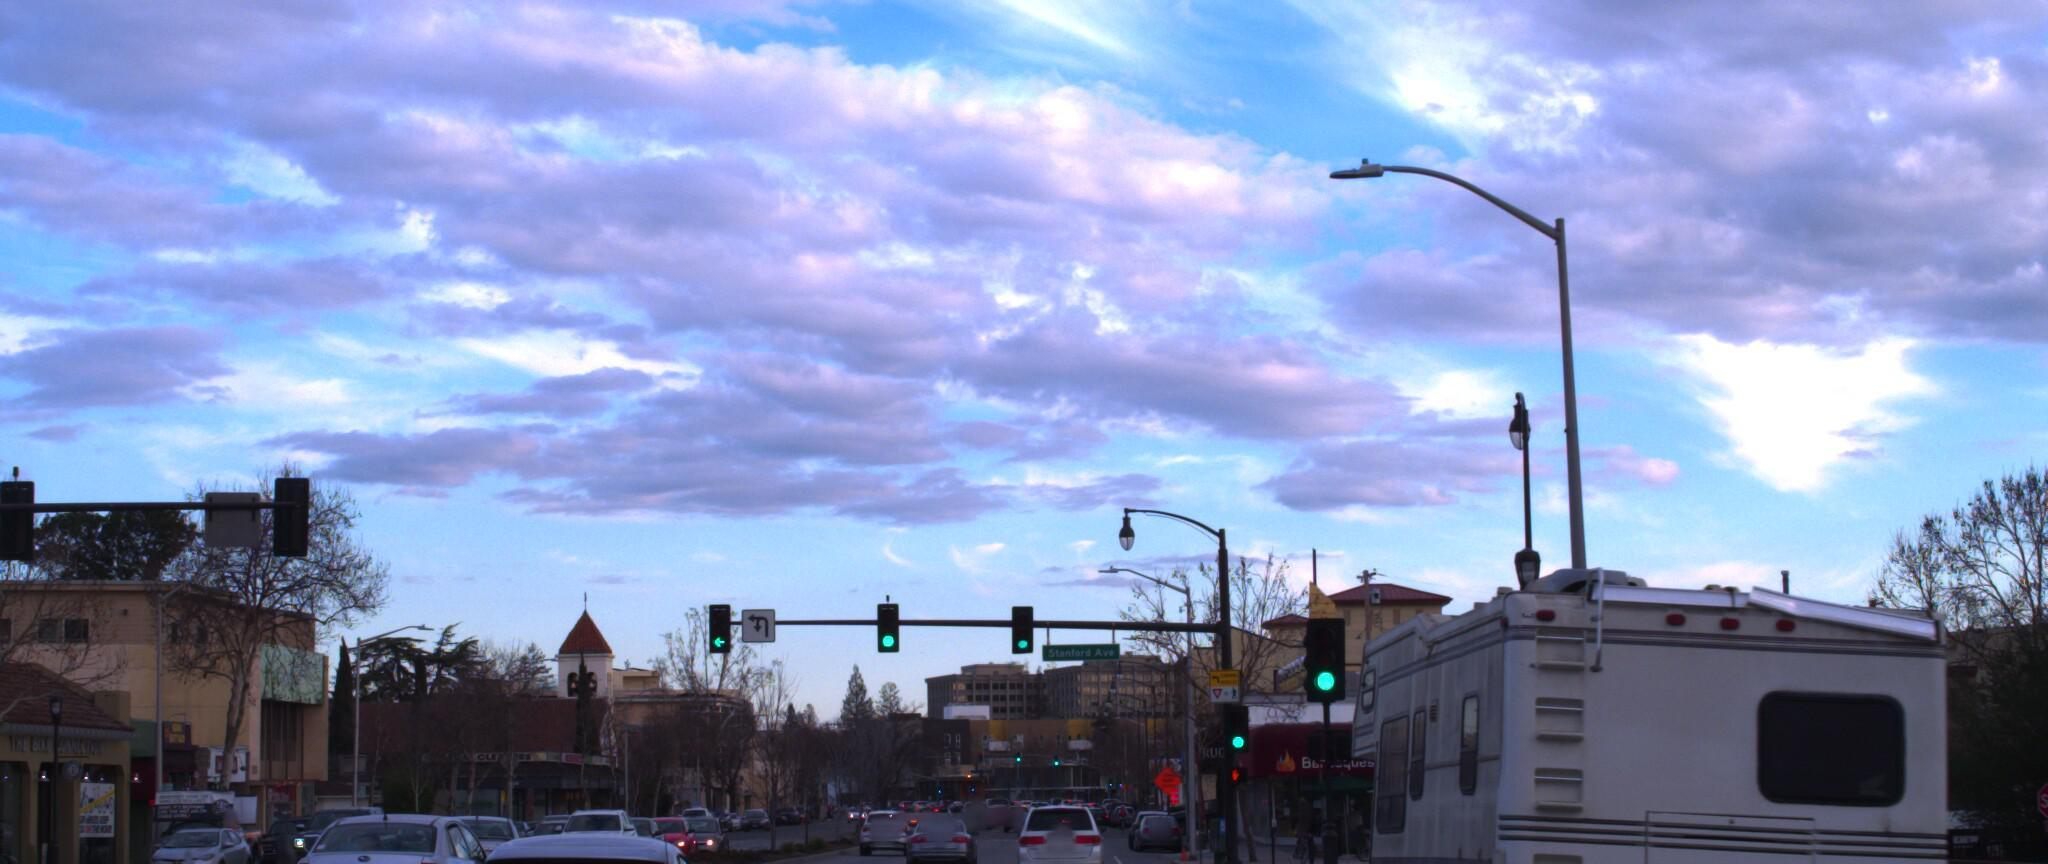bicycle: (1283, 775, 1315, 844)
car: (276, 786, 529, 864), (406, 808, 758, 864), (421, 783, 539, 864), (137, 799, 261, 864), (549, 777, 649, 852), (1012, 790, 1109, 864), (899, 794, 984, 861)
truck: (1317, 504, 1998, 864)
